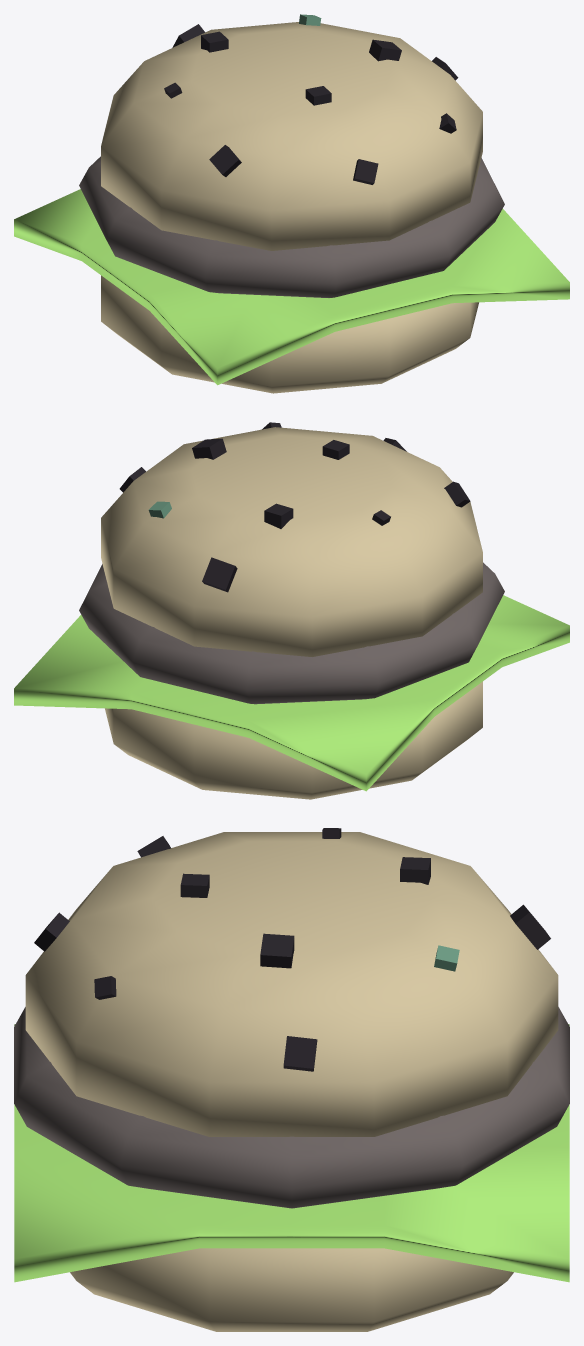
Rendered from moldy_burger_-_blender.glb.
3 views of the same model, one above another, from view 1: azimuth 30°, elevation 25°; view 2: azimuth 150°, elevation 25°; view 3: azimuth 270°, elevation 25° (orthographic). The views are drawn at different scales.
Visible parts, largest first — view 1: top-bun normal # normal_3, cheese green # fun_9, meat grey # fun_12, bottom-bun normal # normal_6, mold black # fun_0; view 2: top-bun normal # normal_3, cheese green # fun_9, meat grey # fun_12, bottom-bun normal # normal_6, mold black # fun_0; view 3: top-bun normal # normal_3, cheese green # fun_9, meat grey # fun_12, bottom-bun normal # normal_6, mold black # fun_0.
Part boxes in pixels (x1,y1,x2,y2): top-bun normal # normal_3: (101,22,482,250); cheese green # fun_9: (14,189,569,385); meat grey # fun_12: (79,156,504,297); bottom-bun normal # normal_6: (101,275,478,393); mold black # fun_0: (164,24,458,184); top-bun normal # normal_3: (101,427,482,656); cheese green # fun_9: (14,595,569,791); meat grey # fun_12: (79,562,504,704); bottom-bun normal # normal_6: (105,681,482,799); mold black # fun_0: (119,422,470,592); top-bun normal # normal_3: (25,832,558,1136); cheese green # fun_9: (14,1024,569,1282); meat grey # fun_12: (14,1007,569,1208); bottom-bun normal # normal_6: (70,1248,513,1331); mold black # fun_0: (34,828,550,1071).
Size of the model in its own units: 2.37 by 1.58 by 2.25.
